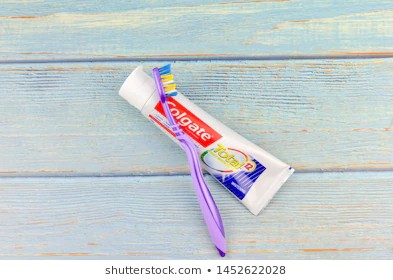colgate-total-150gm: (108, 59, 335, 210)
toothbrush: (153, 63, 231, 258)
